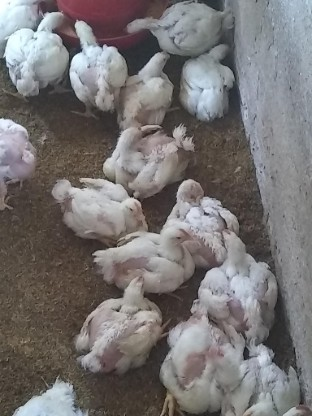Pollos: (160, 298, 234, 410), (79, 273, 159, 374), (203, 227, 281, 330), (85, 226, 195, 289), (105, 118, 189, 194), (218, 347, 310, 416), (64, 17, 126, 116), (50, 180, 145, 242), (3, 8, 69, 96), (163, 179, 238, 253), (126, 0, 234, 50), (174, 38, 238, 116), (114, 40, 170, 127), (0, 110, 35, 214), (13, 373, 86, 416)
